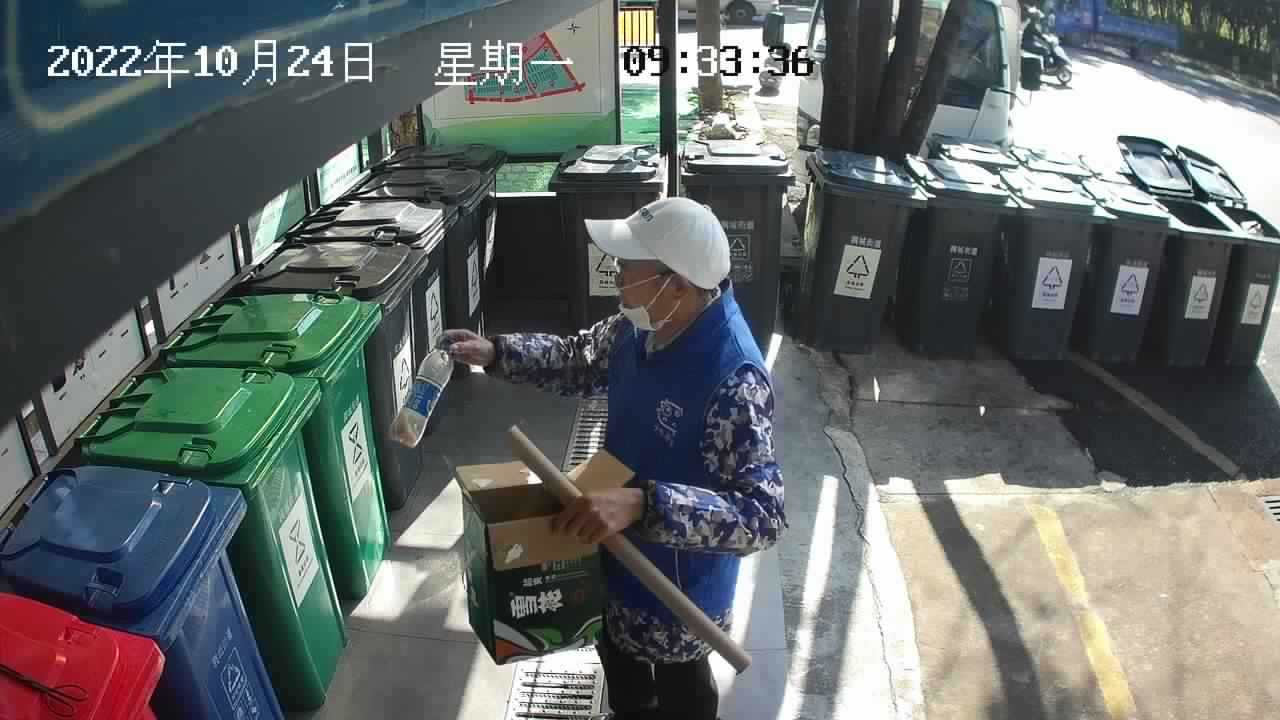suliaozhipin: (384, 334, 456, 452)
worker: (436, 190, 793, 720)
zhizhipin: (447, 445, 638, 667)
